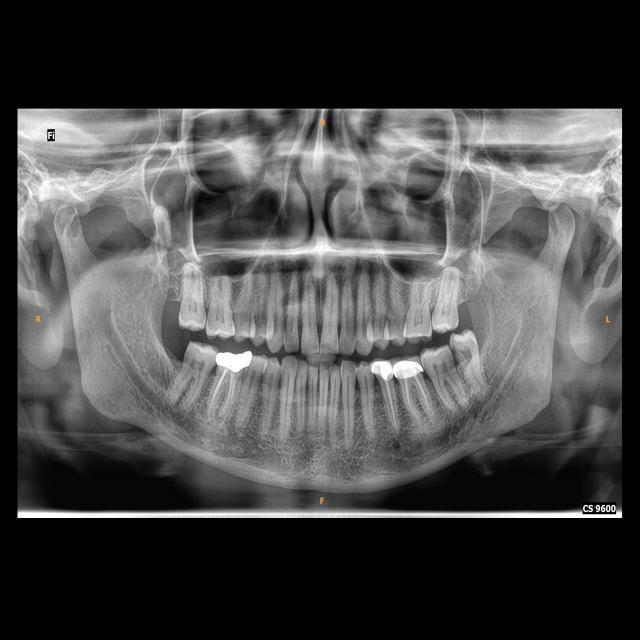dentin-curugu: (450, 342, 462, 358)
kanal-tedavisi: (376, 377, 400, 432), (403, 377, 431, 421), (210, 369, 232, 423)
kaplama: (219, 349, 252, 372), (392, 360, 422, 380), (371, 359, 394, 380)
